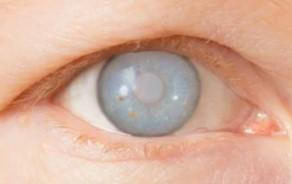eye: (97, 52, 202, 136)
